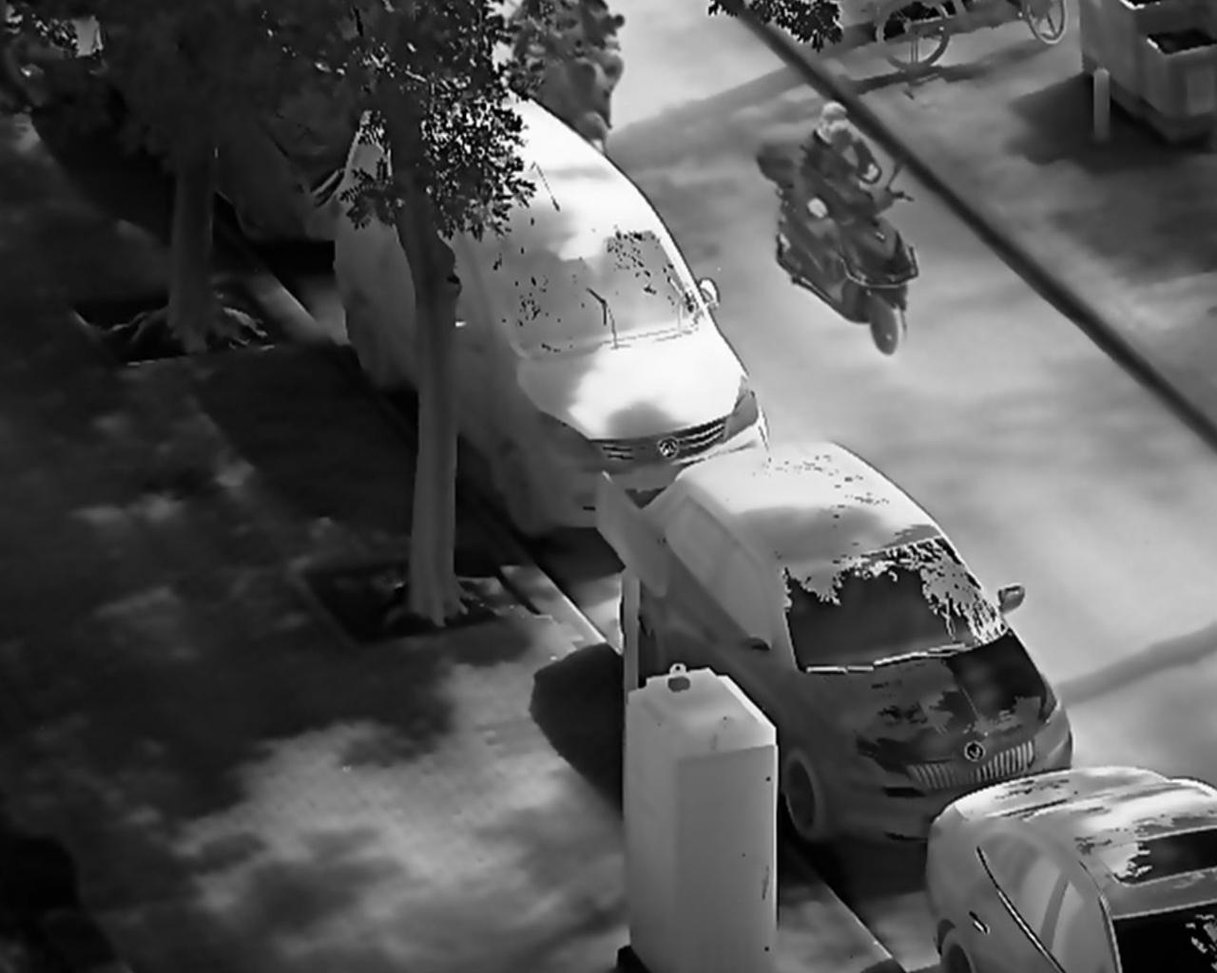person: (789, 100, 898, 280)
